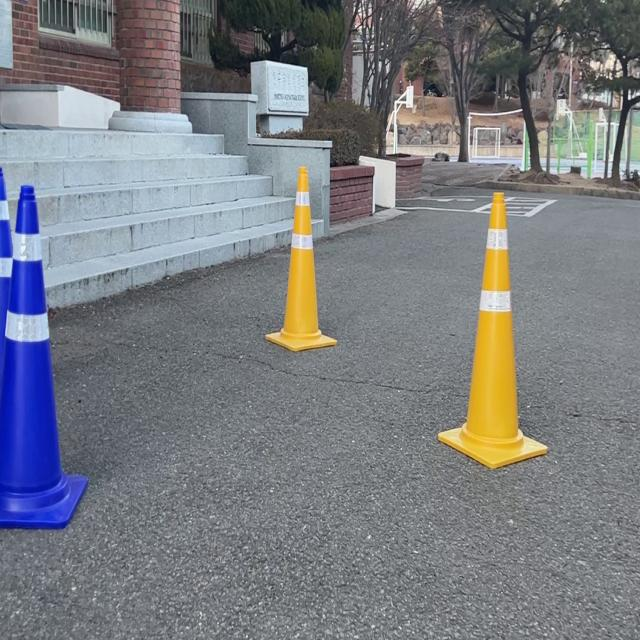cone: (0, 169, 99, 532), (449, 179, 551, 451), (270, 165, 342, 348)
